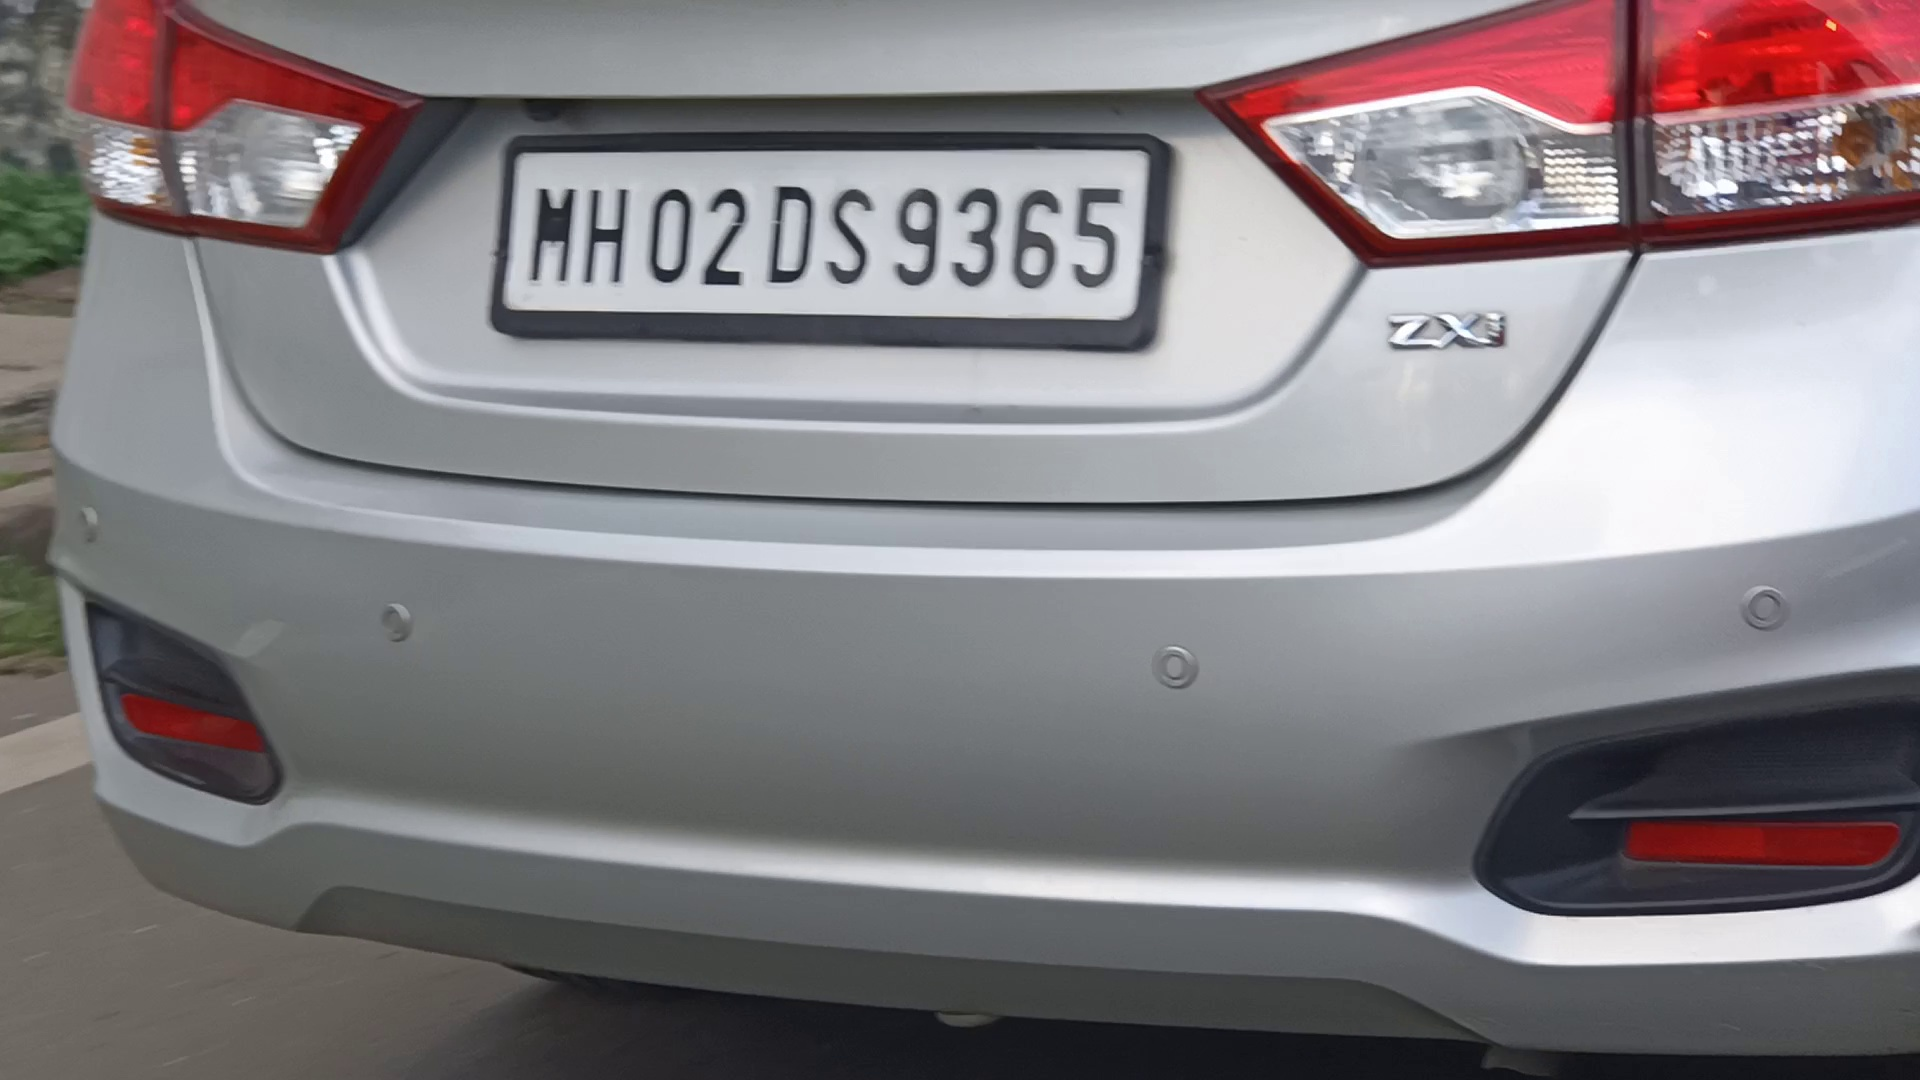MH02DS9365: (497, 138, 1150, 327)
